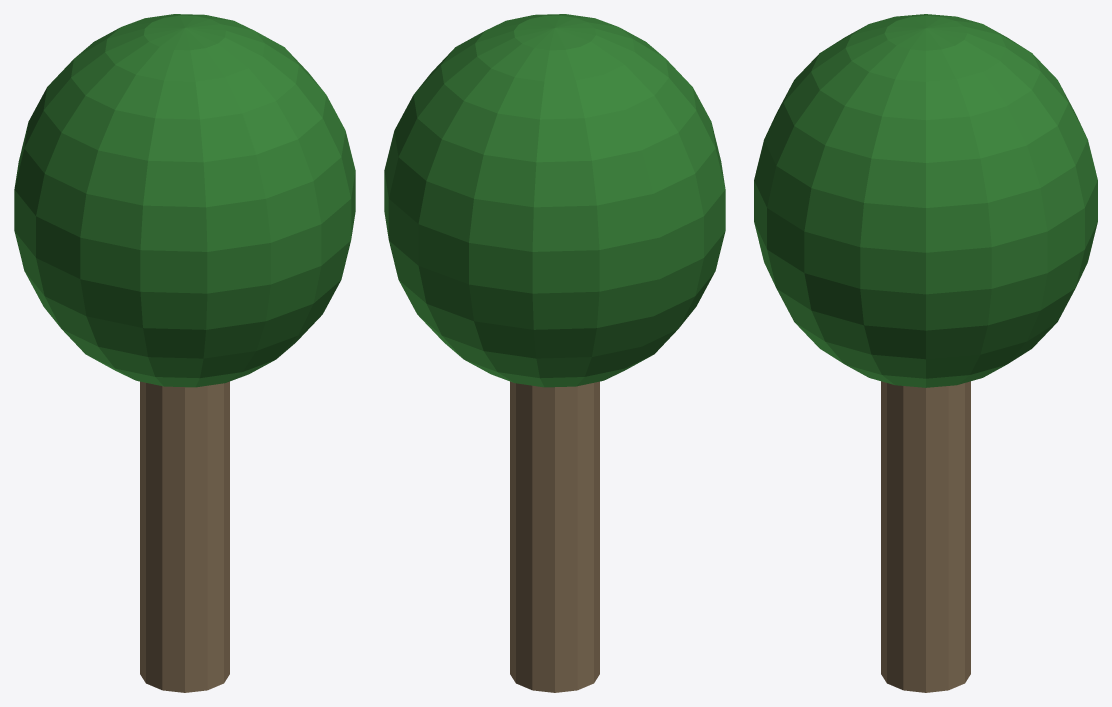
File: tree.glb
3 views of the same model, side by side, from view 1: azimuth 30°, elevation 25°; view 2: azimuth 150°, elevation 25°; view 3: azimuth 270°, elevation 25° (orthographic).
Visible parts, largest first — view 1: tube_object1; view 2: tube_object1; view 3: tube_object1.
Boxes of the visible parts, x1,y1,x2,y2 form: tube_object1: (14,14,355,692); tube_object1: (384,14,725,692); tube_object1: (754,14,1097,692).
Bounding box in the file's own units: 1.55 × 3.21 × 1.55.
